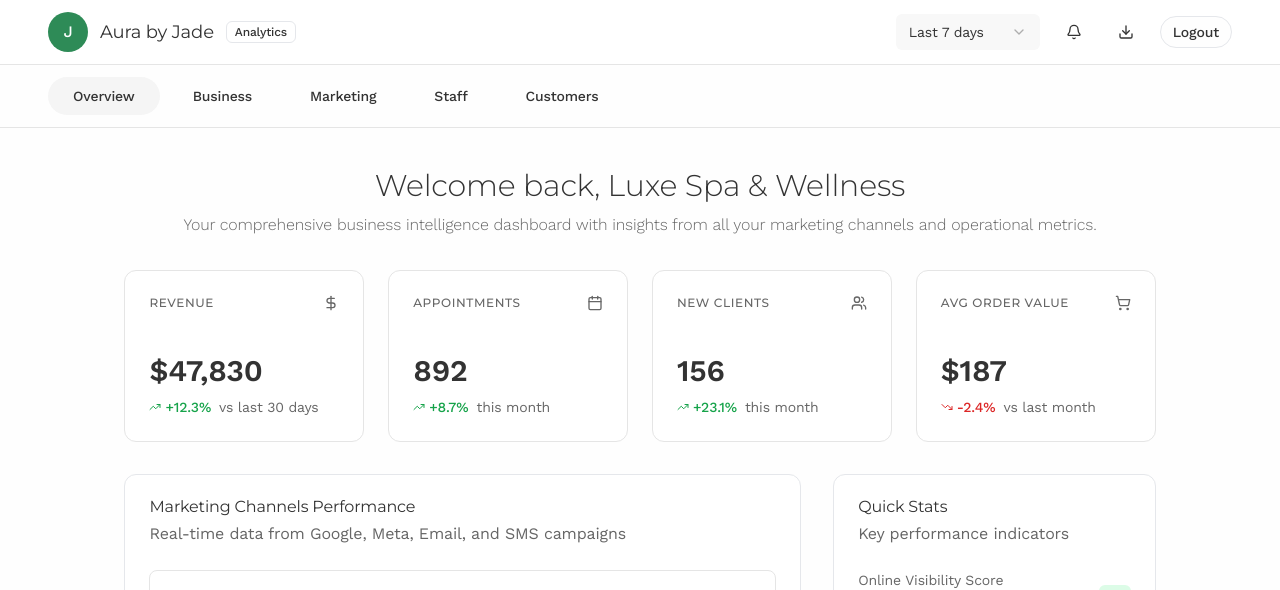
Test: AuraPage › Business Metrics Tab › displays business metrics page header
This screenshot has width=1280, height=590.
Click the tab "Business" at (222, 96), box [168,77,277,115]
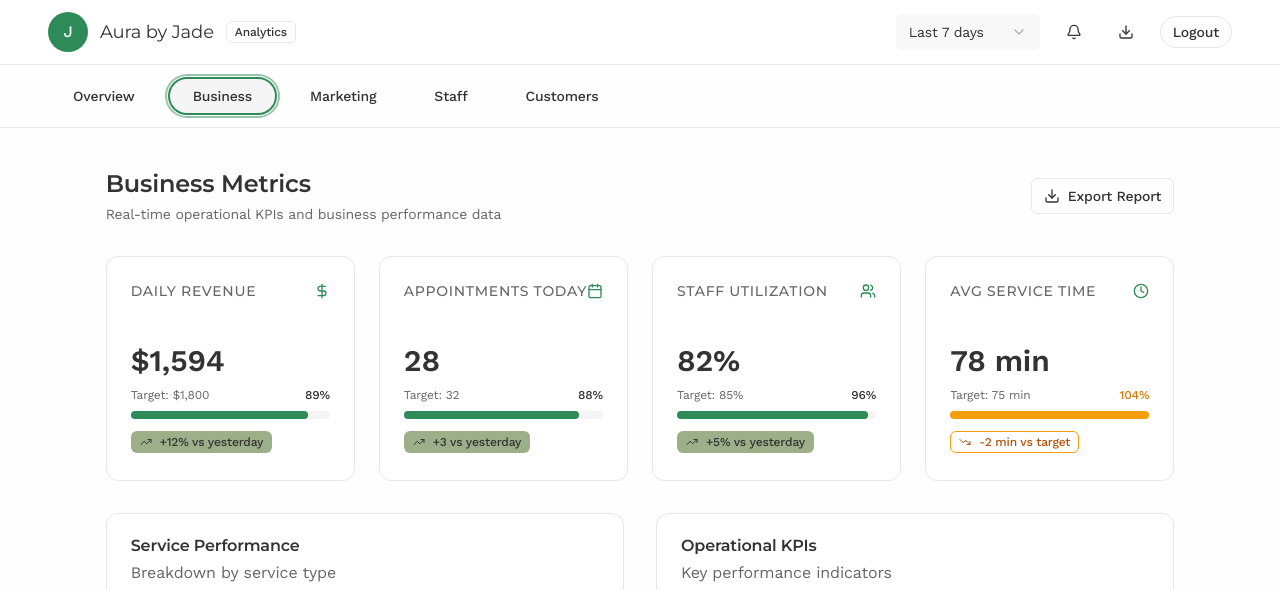
Check: the heading "Business Metrics" is shown, box [106,169,311,198]
Check: the text "Real-time operational KPIs and business performance data" is shown, box [106,204,501,224]
